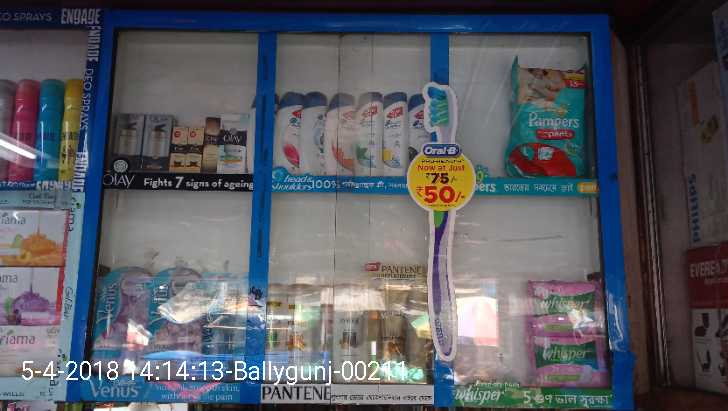venus: (97, 264, 149, 356), (151, 267, 201, 356), (205, 271, 233, 356)
